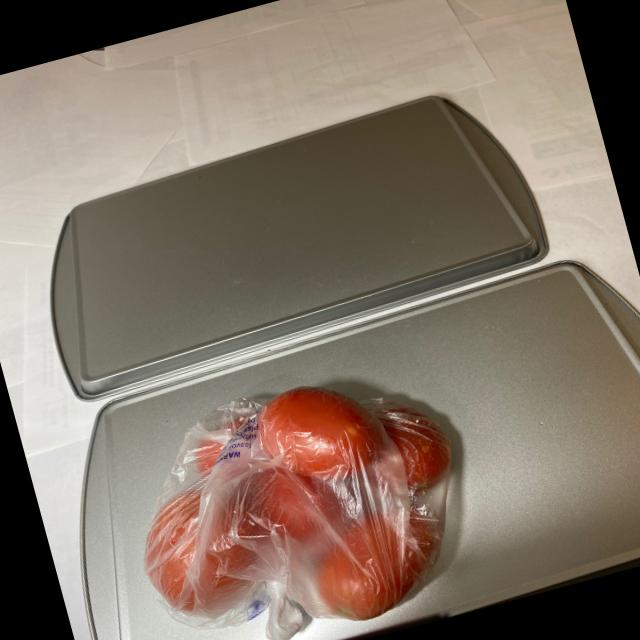tomato: (112, 344, 485, 640)
